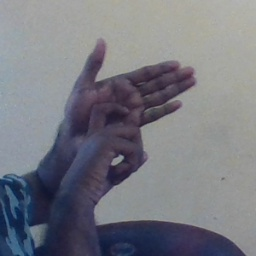R: (53, 34, 201, 194)
